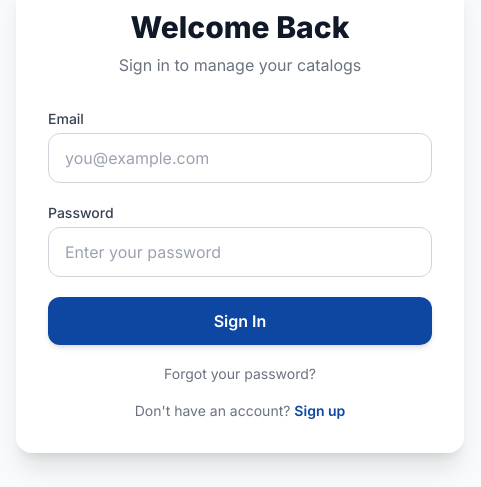
Scenario: Login › shows MFA input when mfa_required returned
The image size is (481, 487).
Step 1. Type "mfa@example.com" into the field labelled "Email" → (240, 158), box [48,133,432,183]
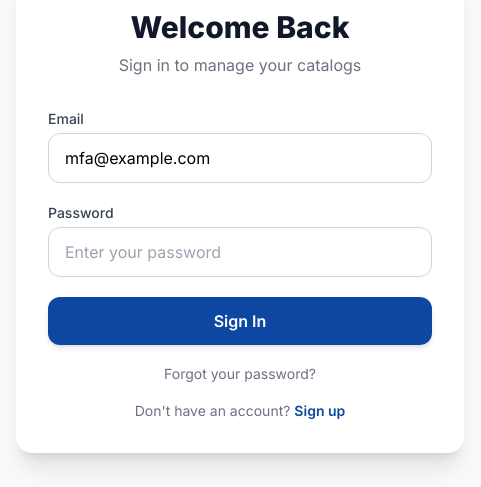
Step 2. Type "password123" into the password field labelled "Password" → (240, 252), box [48,227,432,277]
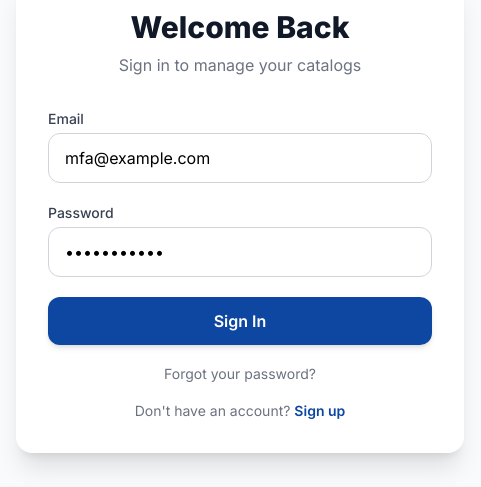
Step 3. Click the button "Sign In" → (240, 321), box [48,297,432,345]
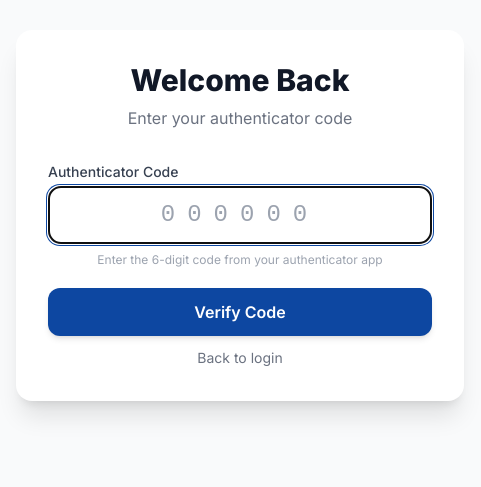
Expected: the text "Enter your authenticator code" is shown, [128,108,352,128]
Expected: the field labelled "Authenticator Code" is shown, [48,186,432,244]
